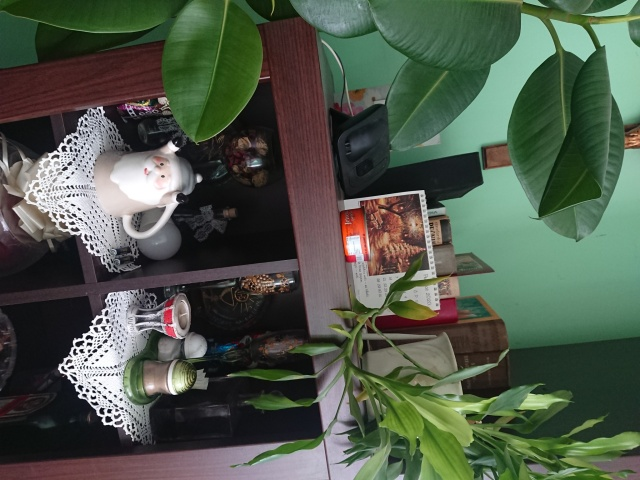Gavrilovic Pork Liver Pate 100g: (337, 202, 372, 264)
